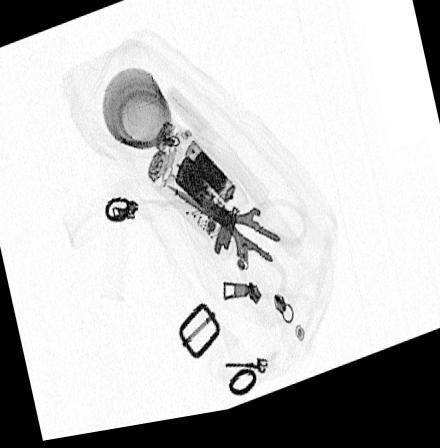Scissors: (158, 187, 308, 306)
